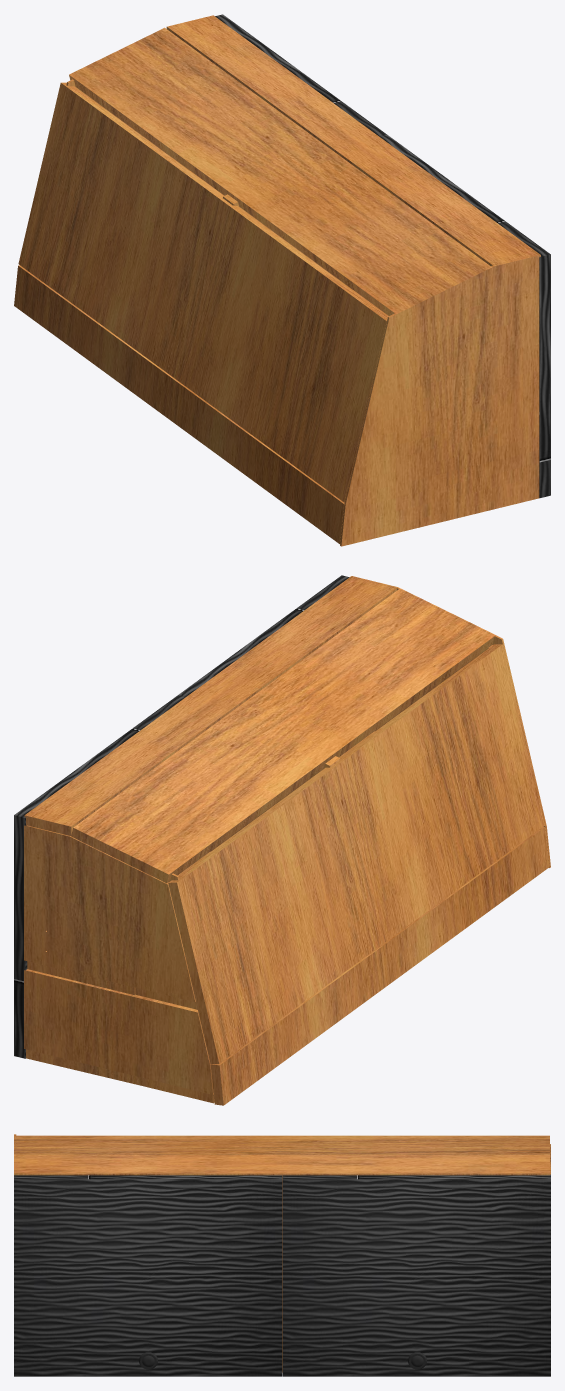
File: upper-cabinet-five.glb
3 renders of one model, top to bottom at view 1: azimuth 30°, elevation 25°; view 2: azimuth 150°, elevation 25°; view 3: azimuth 270°, elevation 25°, orthographic. The views are drawn at different scales.
Visible parts, largest first — view 1: C-4. Антресоль над лавкой Лора.stl#2.001; view 2: C-4. Антресоль над лавкой Лора.stl#2.001; view 3: C-4. Антресоль над лавкой Лора.stl#2.001.
Part boxes in pixels (bbox=[...]): C-4. Антресоль над лавкой Лора.stl#2.001: bbox=[14, 14, 550, 546]; C-4. Антресоль над лавкой Лора.stl#2.001: bbox=[14, 575, 550, 1105]; C-4. Антресоль над лавкой Лора.stl#2.001: bbox=[14, 1134, 550, 1376].
Bounding box in the file's own units: 0.3521 × 0.384 × 0.9398.
3 materials, 2 textured.
